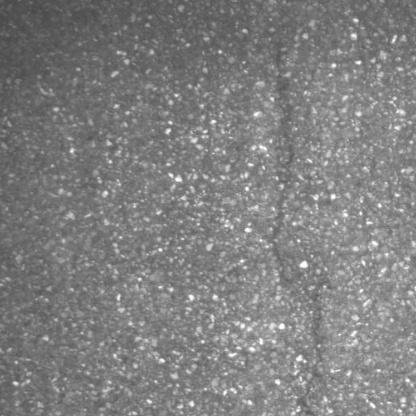Cracks: (267, 36, 332, 416)
